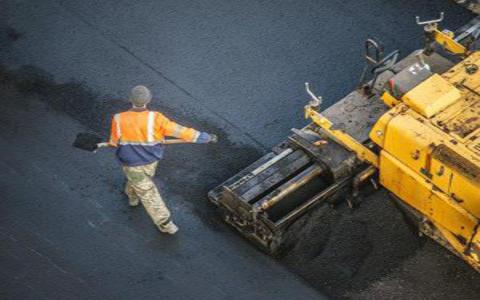Proper road: (185, 3, 351, 81), (30, 3, 185, 81)
